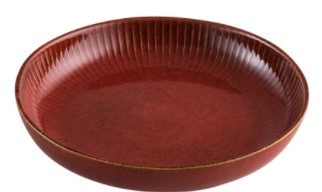su birakma alani: (15, 16, 310, 192)
